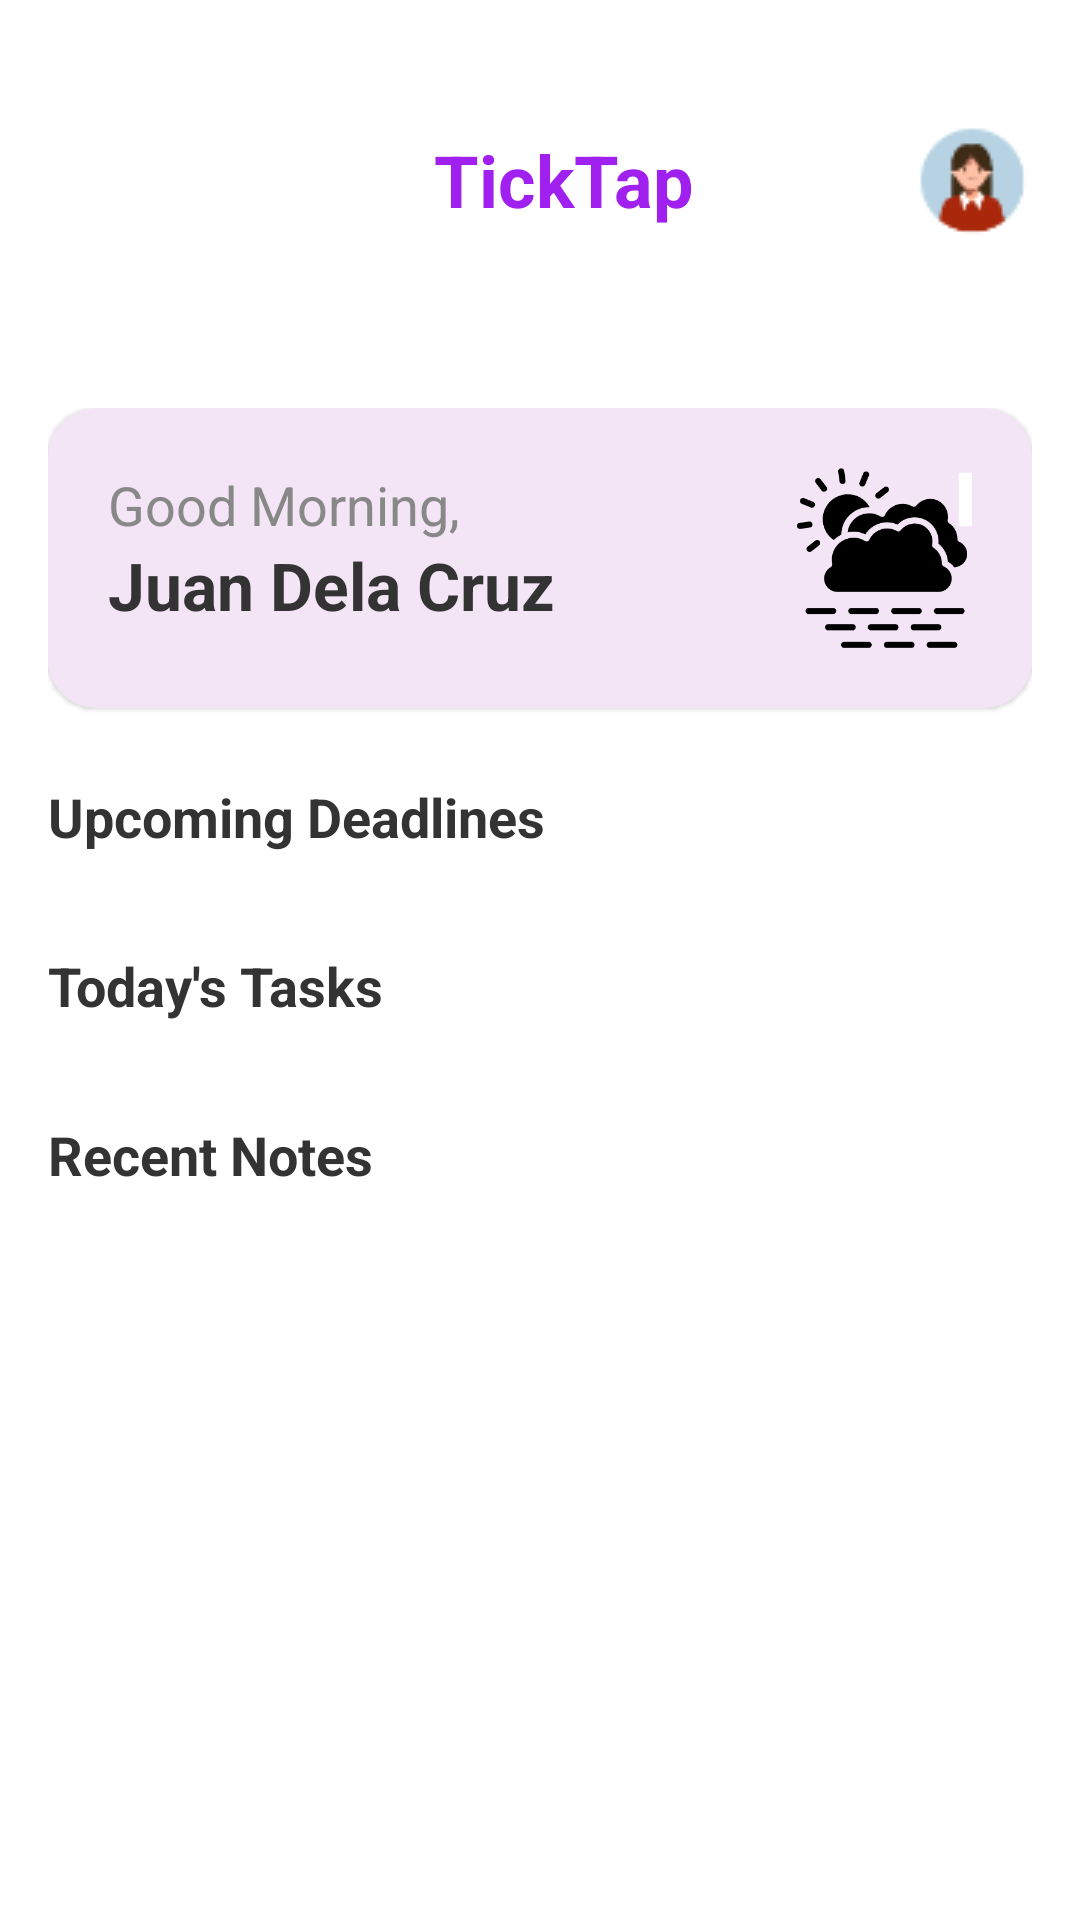

Named icons in this screenshot (1080x1920) and their centers, (x,y):
minipfp: (972,180)
weather: (884,558)
